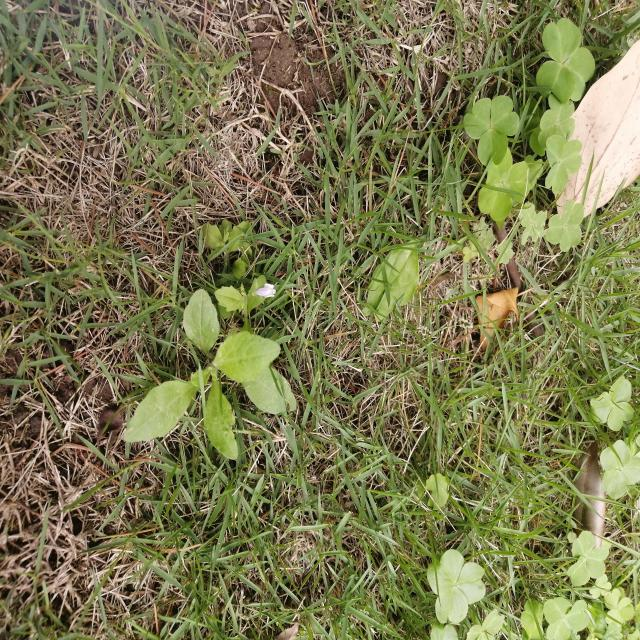horseweed: (123, 301, 304, 454)
